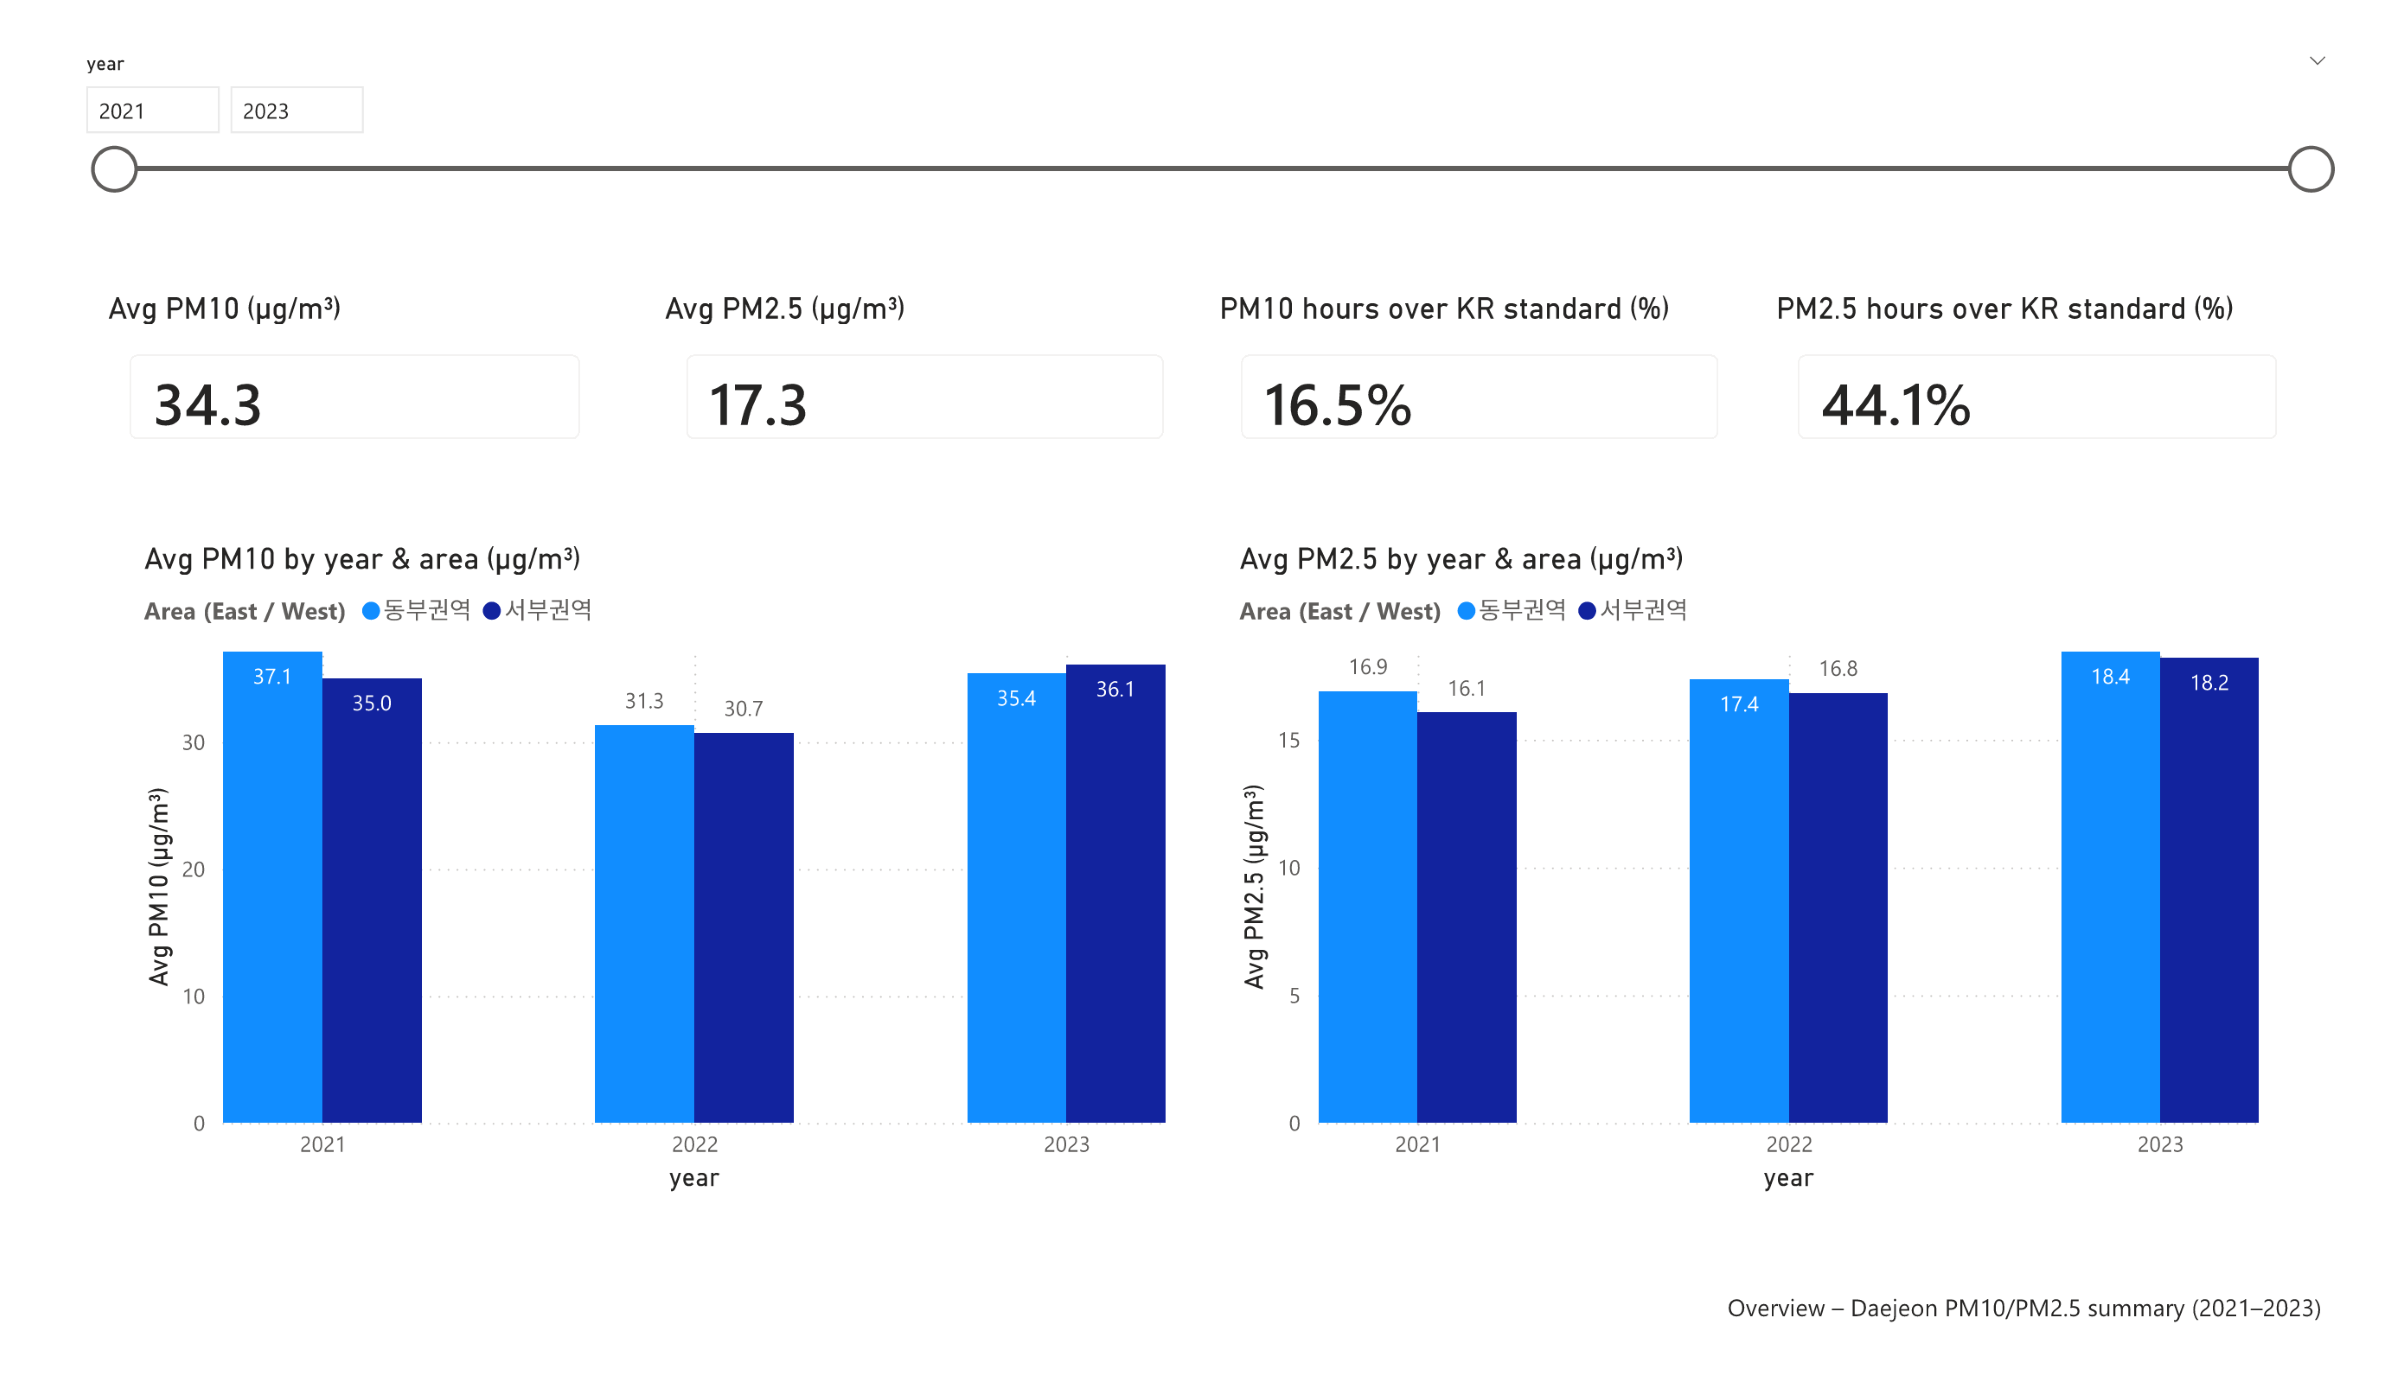

The page's visual inventory and layout, read from the dashboard file:
{"tool":"powerbi","page":{"name":"overview","canvas":[1280,720],"ordinal":0},"visuals":[{"type":"slicer","fields":{"Values":["AreaEWStats_2021_2023.year"]},"box":[10.7,0,1269.3,137.5],"z":0},{"type":"cardVisual","title":"Avg PM10 (µg/m³)","fields":{"Data":["Avg(AreaEWStats_2021_2023.pm10_mean)"]},"box":[30.9,137.5,284.6,99.1],"z":1000},{"type":"cardVisual","title":"Avg PM2.5 (µg/m³)","fields":{"Data":["Avg(AreaEWStats_2021_2023.pm25_mean)"]},"box":[340,137.5,299.5,99.1],"z":2000},{"type":"cardVisual","title":"PM10 hours over KR standard (%)","fields":{"Data":["Avg(AreaEWStats_2021_2023.pm10_over_kr_ratio)"]},"box":[648,137.5,299.5,99.1],"z":3000},{"type":"cardVisual","title":"PM2.5 hours over KR standard (%)","fields":{"Data":["Avg(AreaEWStats_2021_2023.pm25_over_kr_ratio)"]},"box":[957.1,137.5,299.5,99.1],"z":4000},{"type":"clusteredColumnChart","title":"Avg PM10 by year & area (µg/m³)","fields":{"Category":["AreaEWStats_2021_2023.year"],"Series":["AreaEWStats_2021_2023.area_ew"],"Y":["Avg(AreaEWStats_2021_2023.pm10_mean)"]},"box":[51.2,276,576.6,366.6],"z":5000},{"type":"clusteredColumnChart","title":"Avg PM2.5 by year & area (µg/m³)","fields":{"Category":["AreaEWStats_2021_2023.year"],"Series":["AreaEWStats_2021_2023.area_ew"],"Y":["Avg(AreaEWStats_2021_2023.pm25_mean)"]},"box":[658.7,276,576.6,366.6],"z":6000},{"type":"textbox","box":[889.7,687.8,390.3,32.8],"z":7000}]}

Visuals, with their boxes in screenshot pixels (x1, y1, x2, y2), scaled from the page's 1280x720 canvas onto the 2392x1383 screenshot:
slicer - AreaEWStats_2021_2023.year: (20, 0, 2391, 264)
"Avg PM10 (µg/m³)" cardVisual: (58, 264, 590, 454)
"Avg PM2.5 (µg/m³)" cardVisual: (635, 264, 1195, 454)
"PM10 hours over KR standard (%)" cardVisual: (1211, 264, 1771, 454)
"PM2.5 hours over KR standard (%)" cardVisual: (1789, 264, 2348, 454)
"Avg PM10 by year & area (µg/m³)" clusteredColumnChart: (96, 530, 1173, 1234)
"Avg PM2.5 by year & area (µg/m³)" clusteredColumnChart: (1231, 530, 2308, 1234)
textbox: (1663, 1321, 2391, 1382)
